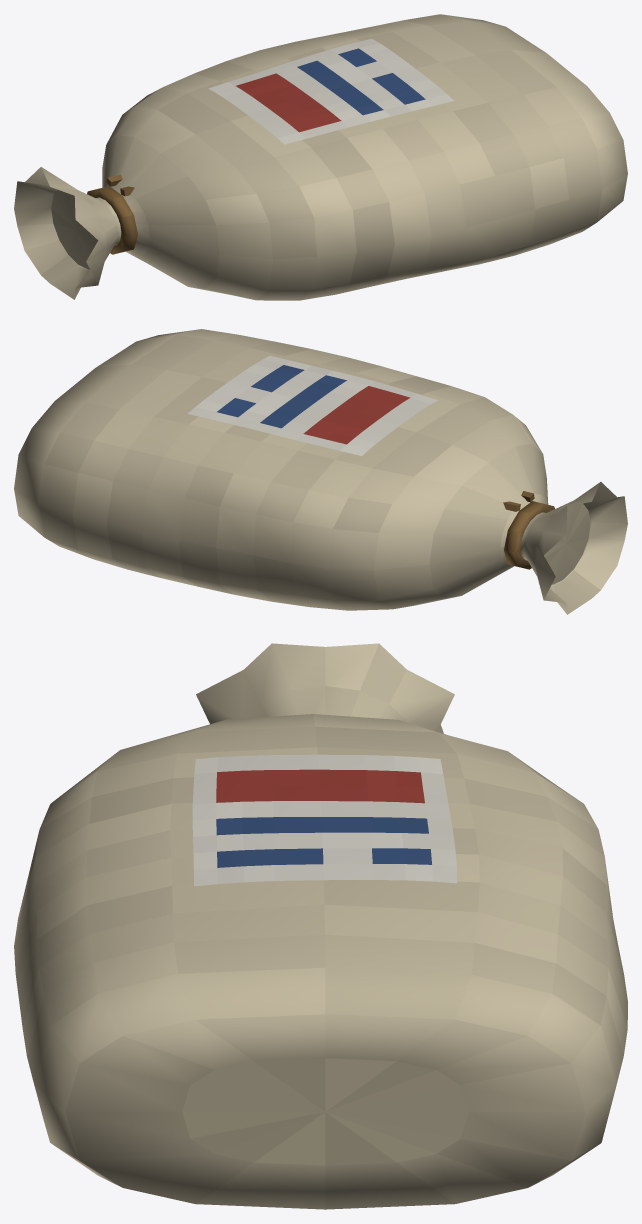
The model's file is flour-sack-carry.glb.
3 views of the same model, one above another, from view 1: azimuth 30°, elevation 25°; view 2: azimuth 150°, elevation 25°; view 3: azimuth 270°, elevation 25° (orthographic). The views are drawn at different scales.
Parts seen in each view (by area): view 1: flour-sack-carry; view 2: flour-sack-carry; view 3: flour-sack-carry.
Part boxes in pixels (<box>): flour-sack-carry: <box>14,14,627,300</box>; flour-sack-carry: <box>14,329,627,614</box>; flour-sack-carry: <box>14,643,627,1209</box>.
Size of the model in its own units: 0.67 by 0.2036 by 0.4486.
